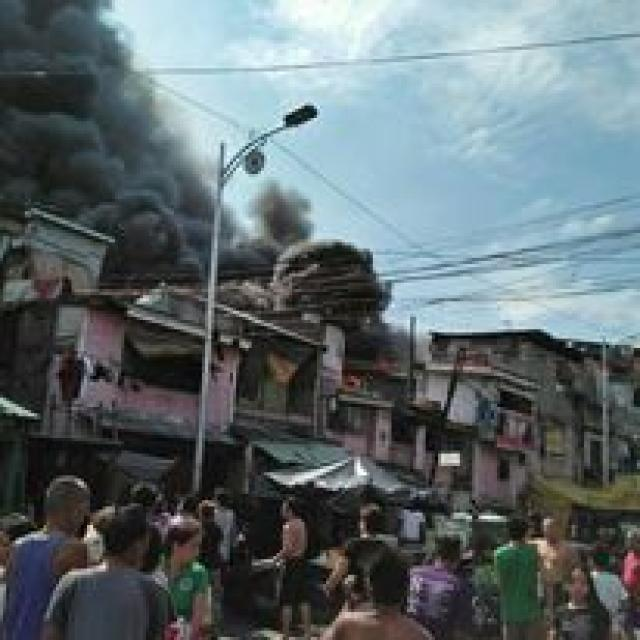Smoke: (0, 0, 164, 214), (122, 193, 300, 270)
